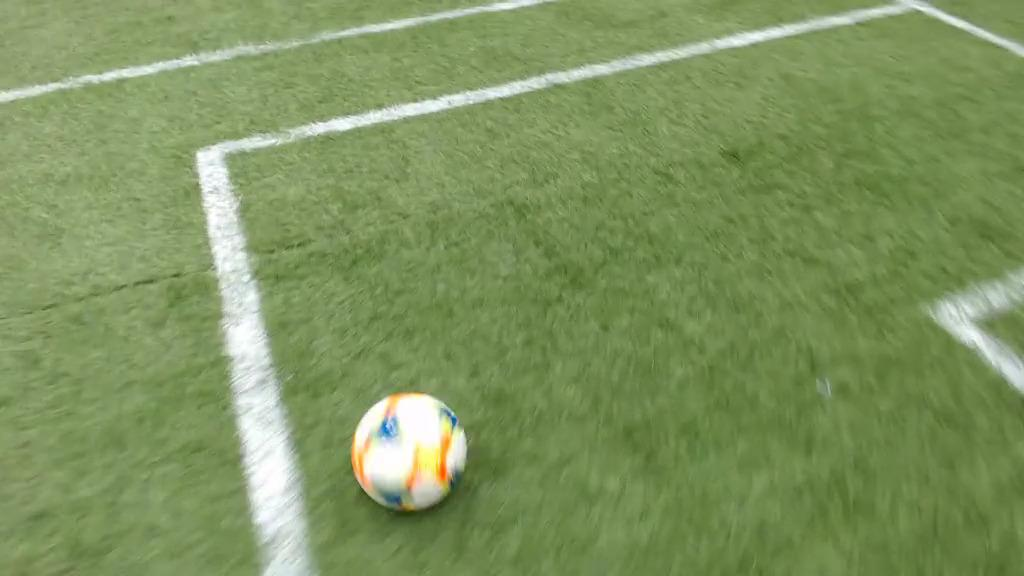ball: (352, 391, 468, 513)
